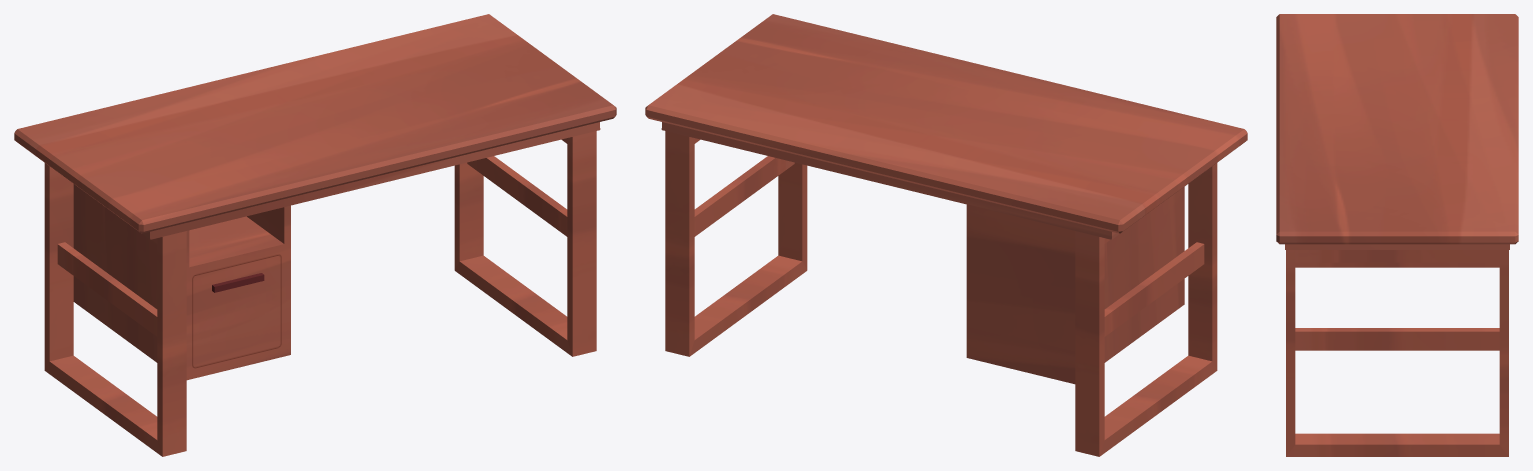
File: desk.fbx
3 renders of one model, left to right at view 1: azimuth 30°, elevation 25°; view 2: azimuth 150°, elevation 25°; view 3: azimuth 270°, elevation 25°, orthographic. The views are drawn at different scales.
Parts seen in each view (by area): view 1: polySurface251; view 2: polySurface251; view 3: polySurface251.
Boxes of the visible parts, box(x1,y1,x2,y2) form: polySurface251: box(14, 14, 616, 456); polySurface251: box(645, 14, 1247, 456); polySurface251: box(1276, 14, 1518, 456).
Size of the model in its own units: 1.42 by 0.6952 by 0.66.
